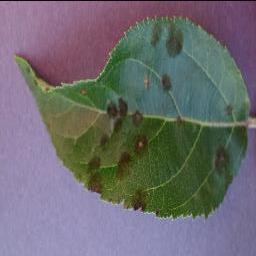apple healthy: (13, 14, 255, 220)
